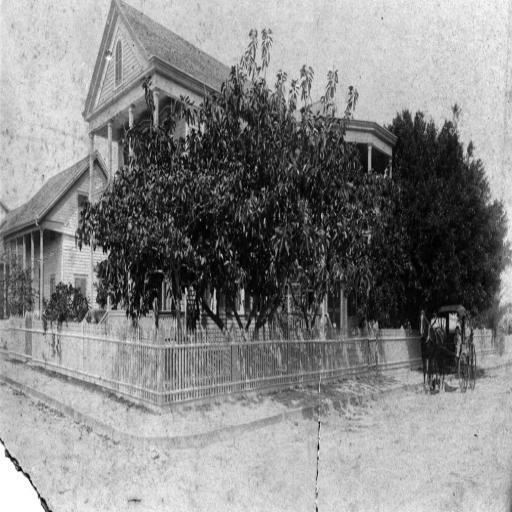horse: (420, 301, 445, 390)
